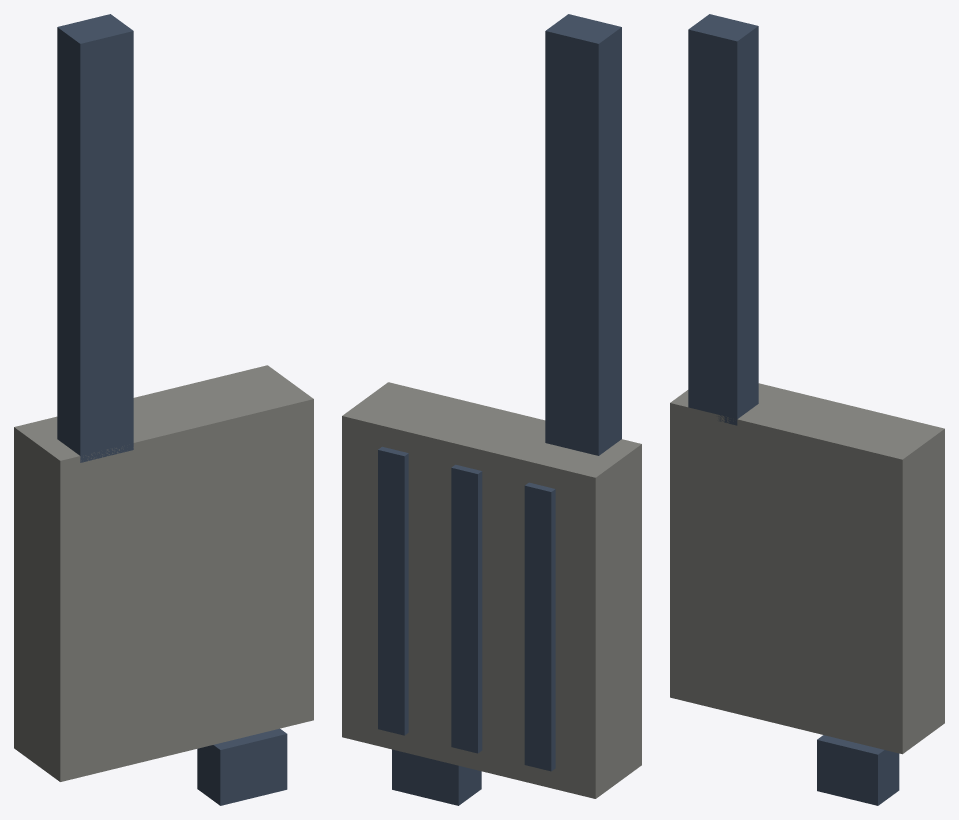
The model's file is mp8_ignition.obj.
The picture shows the model from 3 angles, left to right: view 1: azimuth 30°, elevation 25°; view 2: azimuth 150°, elevation 25°; view 3: azimuth 330°, elevation 25°; orthographic projection. The views are drawn at different scales.
Visible parts, largest first — view 1: mp8_ignition; view 2: mp8_ignition; view 3: mp8_ignition.
Part boxes in pixels (x1,y1,x2,y2): mp8_ignition: (14, 14, 313, 805); mp8_ignition: (342, 14, 641, 805); mp8_ignition: (670, 14, 944, 805).
Bounding box in the file's own units: 0.38 × 1.14 × 0.131.
